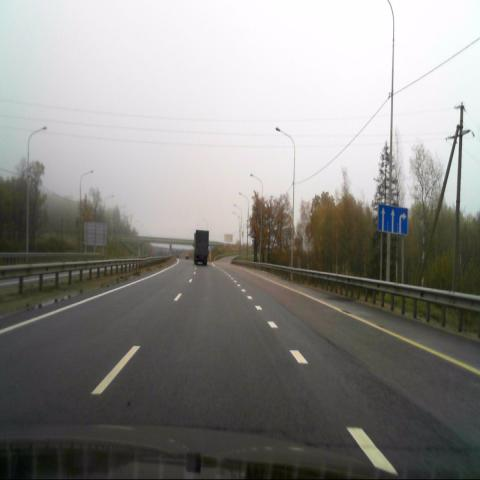5_15_1: (380, 203, 408, 233)
